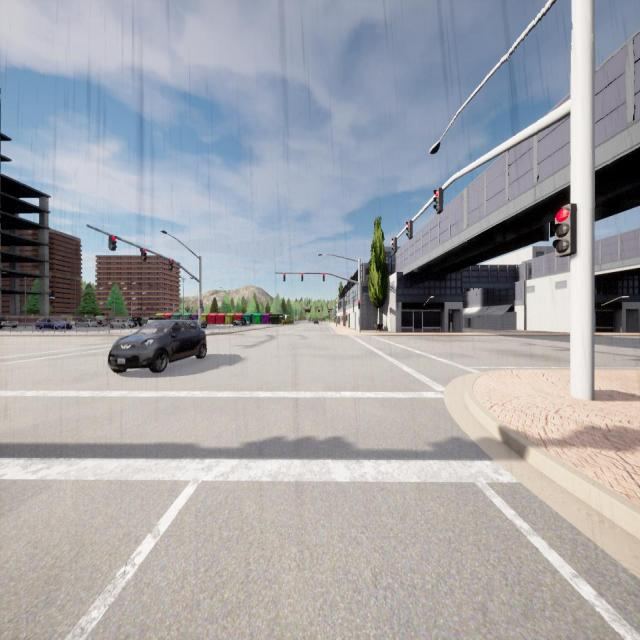Vehicle: (108, 318, 207, 374), (34, 316, 72, 330), (110, 318, 133, 329), (0, 316, 17, 329), (76, 319, 98, 328), (232, 317, 245, 326), (132, 317, 142, 327), (97, 319, 108, 327), (314, 319, 319, 325), (246, 320, 250, 325)
traffic_light: (552, 204, 577, 258), (434, 188, 444, 214), (406, 220, 413, 240), (108, 235, 116, 251), (141, 248, 147, 262), (392, 237, 397, 253), (169, 259, 173, 270), (358, 300, 360, 309), (323, 273, 325, 282), (283, 273, 285, 281), (200, 300, 202, 308), (301, 273, 303, 281)
